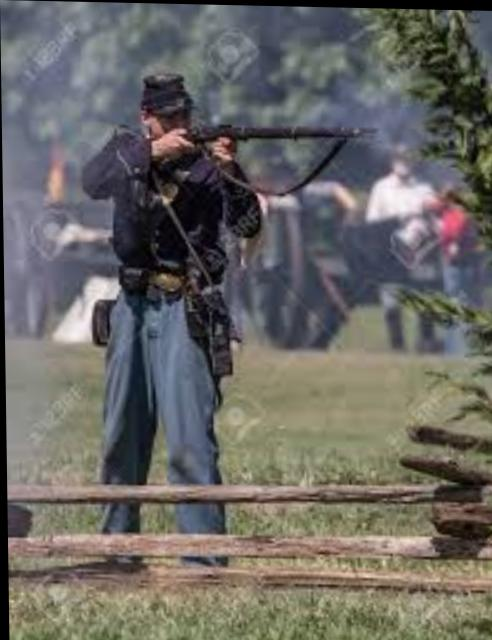other: (88, 71, 259, 491)
